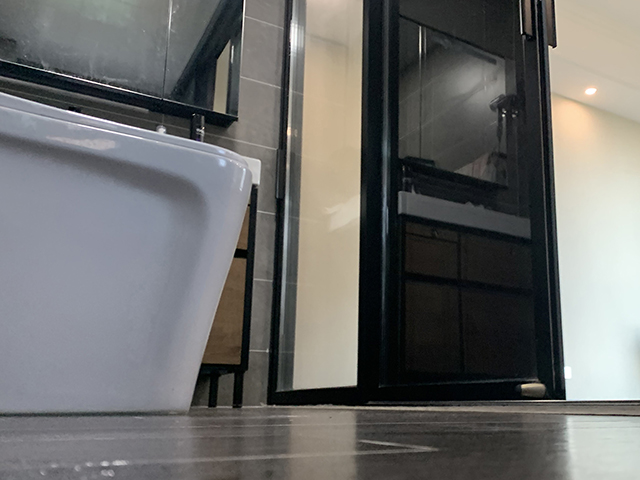cabinet: (202, 155, 262, 410)
closestool: (1, 90, 253, 417)
